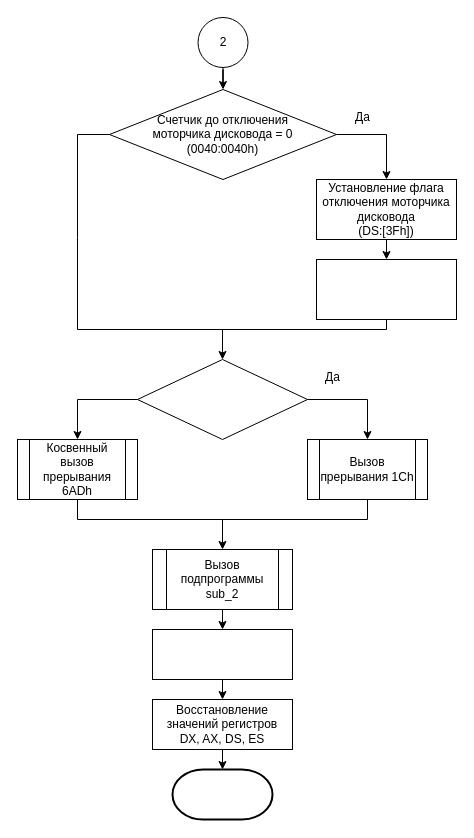
This 474x838 diagram has some shape labels left out. The shapes that lost their labels are listed below. From the top down, each one's centre as x and y in pixels, then its label:
At [386,289]: "Отправка сигнала (0Ch) в порт дисковода (3F2h) на отключение моторчика".
At [222,399]: "Выставлен PF (0040:0314h)".
At [222,654]: "Сброс контроллера прерываний (AL = 20h)".
At [222,794]: "Конец".
